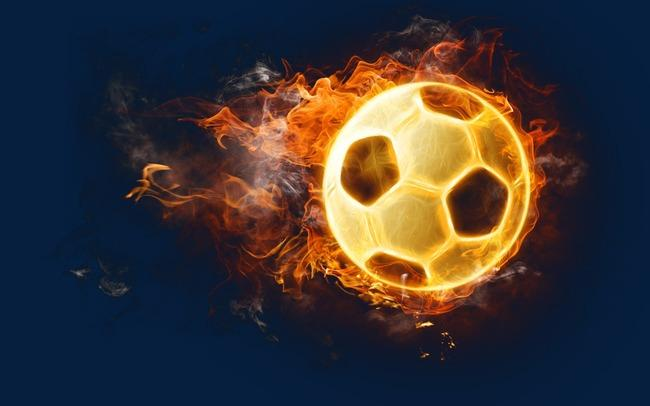football: (327, 75, 530, 296)
